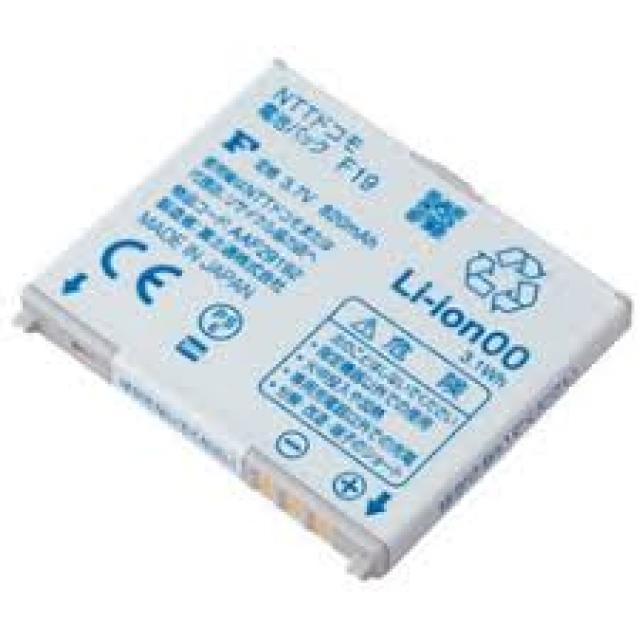battery: (14, 58, 630, 579)
